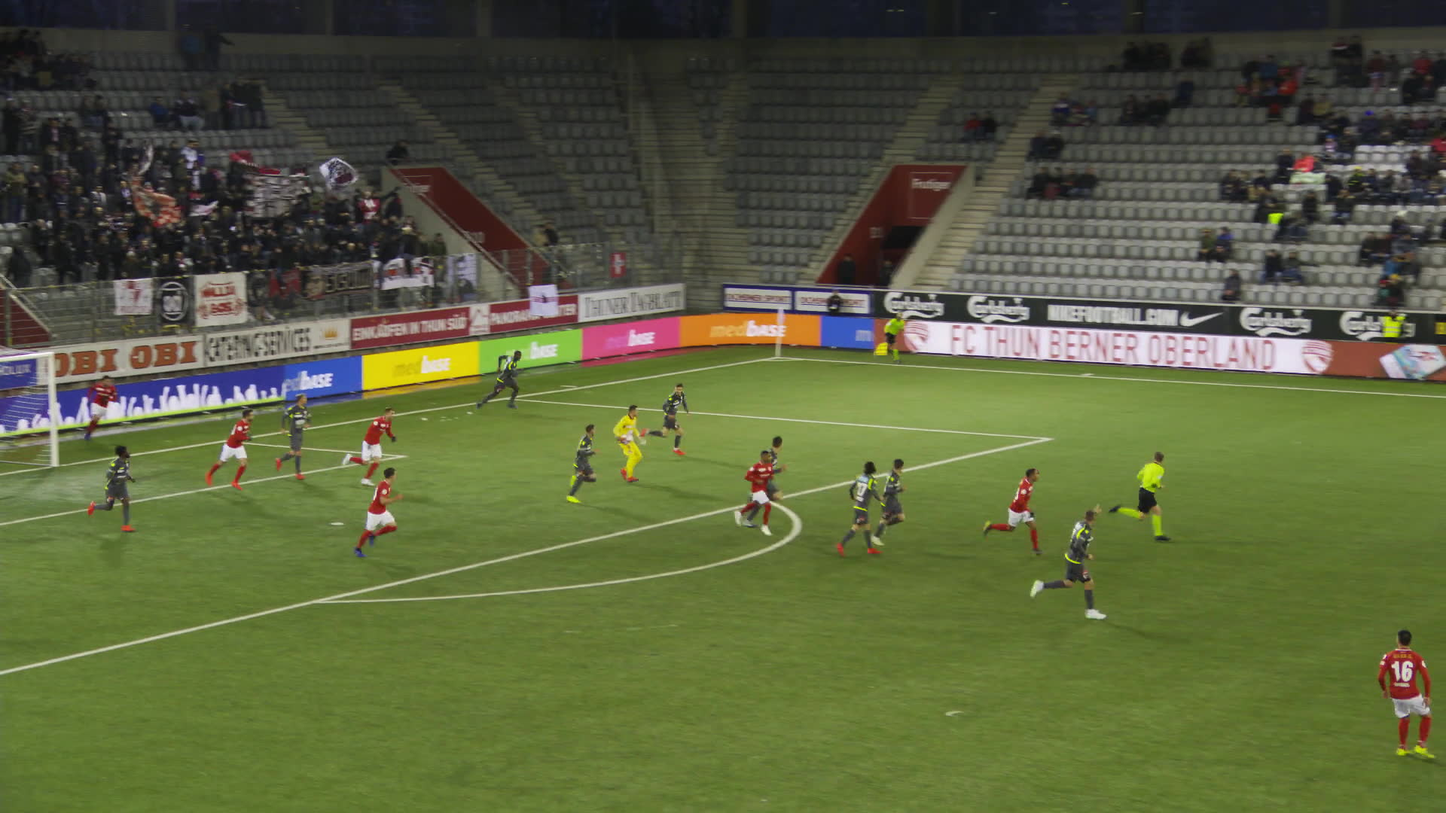ball: (627, 432, 639, 444)
player: (1034, 506, 1107, 622), (1377, 629, 1436, 763), (725, 433, 785, 531), (840, 462, 889, 560), (989, 467, 1044, 554), (352, 467, 403, 559), (339, 406, 396, 485), (204, 409, 255, 491), (734, 449, 781, 536), (91, 445, 139, 530), (557, 422, 600, 506), (641, 382, 690, 455), (479, 351, 531, 416), (871, 458, 908, 548), (279, 394, 316, 480), (613, 402, 645, 486), (80, 373, 118, 440)
referee: (1106, 450, 1171, 543), (876, 312, 908, 364)
